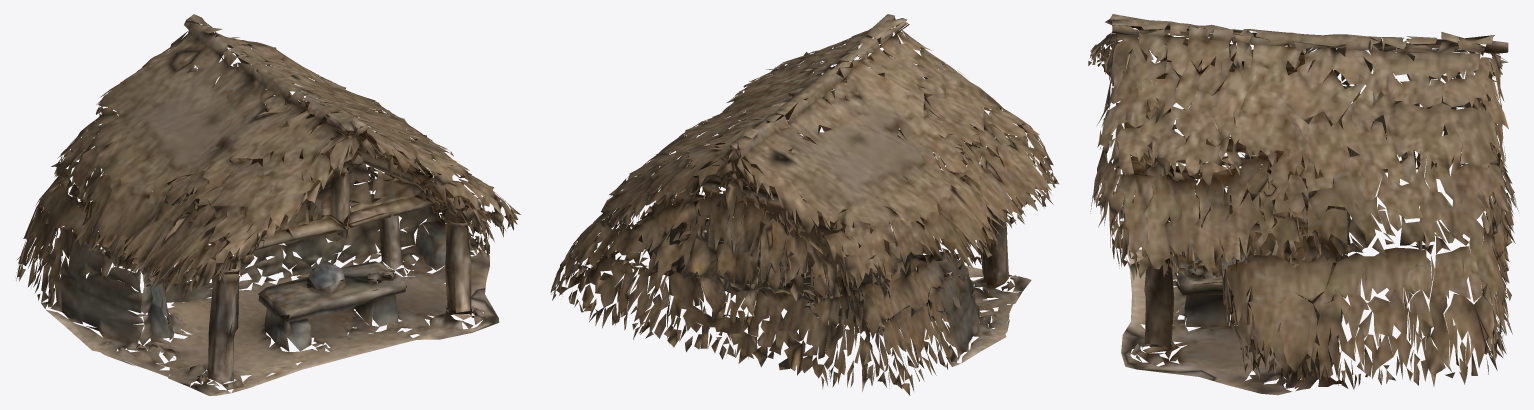
Rendered from mason_far.glb.
The picture shows the model from 3 angles, left to right: view 1: azimuth 30°, elevation 25°; view 2: azimuth 150°, elevation 25°; view 3: azimuth 270°, elevation 25°; orthographic projection. The views are drawn at different scales.
Visible parts, largest first — view 1: model; view 2: model; view 3: model.
Boxes of the visible parts, left/top/right/bottom form: model: left=16, top=14, right=520, bottom=395; model: left=550, top=14, right=1058, bottom=395; model: left=1088, top=14, right=1518, bottom=395.
Size of the model in its own units: 0.993 by 0.5766 by 0.8235.
Materials: 1 (1 with a texture image).
